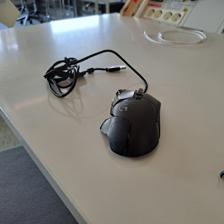mouse: (97, 86, 163, 160)
